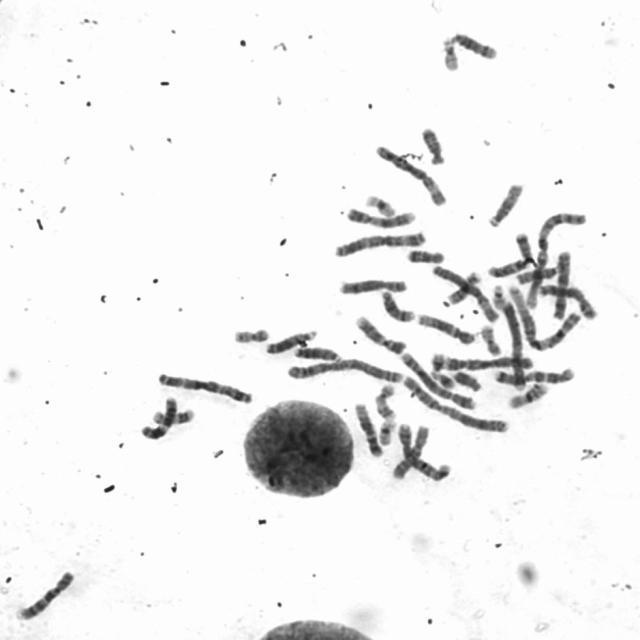A1: (522, 208, 588, 310), (502, 282, 584, 352)
A2: (400, 370, 511, 436), (283, 354, 407, 385)
A3: (154, 367, 255, 406), (331, 226, 428, 259)
B4: (491, 284, 529, 394), (438, 350, 536, 372)
B5: (396, 348, 478, 412), (394, 418, 453, 482)
C10: (12, 566, 78, 622), (388, 422, 431, 481)
C11: (138, 392, 180, 441)
C12: (414, 309, 477, 346), (352, 398, 386, 459)
C6: (372, 140, 449, 208), (429, 261, 501, 325)
C7: (483, 228, 534, 279), (489, 363, 576, 388)
C8: (536, 279, 600, 321), (336, 274, 410, 296)
C9: (352, 311, 409, 356), (343, 203, 418, 230)
D13: (262, 324, 320, 356), (291, 341, 344, 364)
D14: (446, 27, 500, 60), (378, 286, 417, 324)
D15: (484, 179, 526, 228), (513, 261, 563, 286)
E16: (445, 267, 483, 306), (505, 378, 551, 410)
E17: (371, 381, 399, 422), (149, 404, 196, 425)
E18: (418, 122, 447, 166), (403, 245, 447, 265)
F19: (362, 190, 398, 218), (375, 415, 397, 446)
F20: (477, 320, 504, 356), (230, 324, 272, 344)
G21: (430, 366, 458, 391), (426, 348, 448, 373)
G22: (438, 34, 462, 73), (489, 280, 506, 312)
X: (550, 246, 574, 321)
Y: (450, 366, 484, 393)
